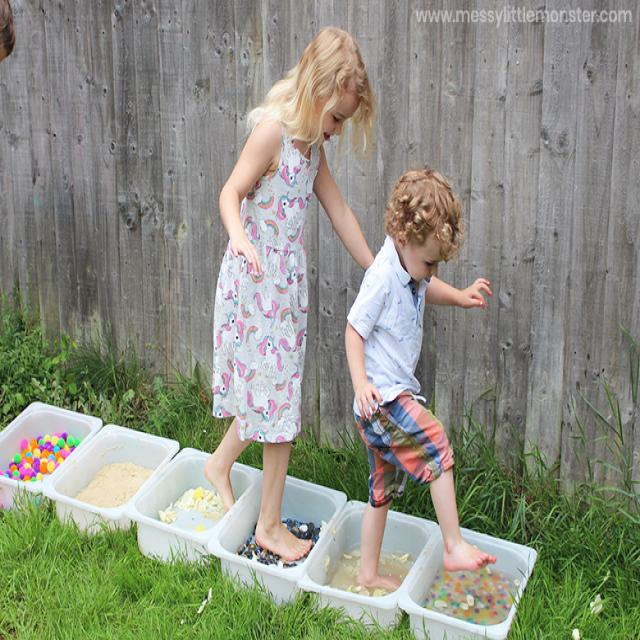Person: (204, 28, 374, 560), (346, 170, 497, 592)
